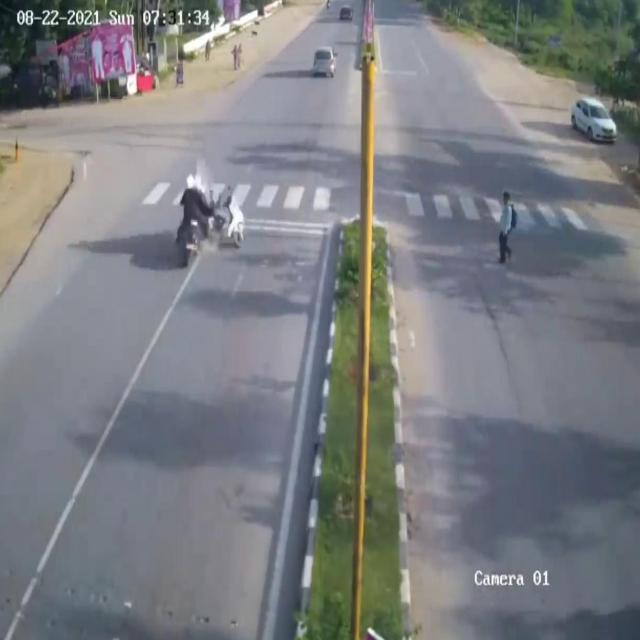accident: (165, 141, 263, 291)
